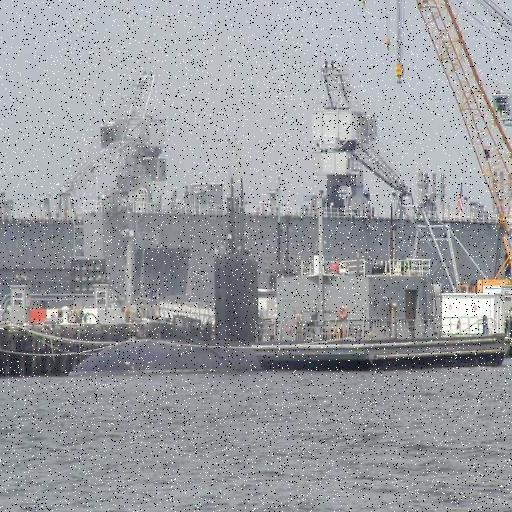submarine: (71, 180, 369, 375)
